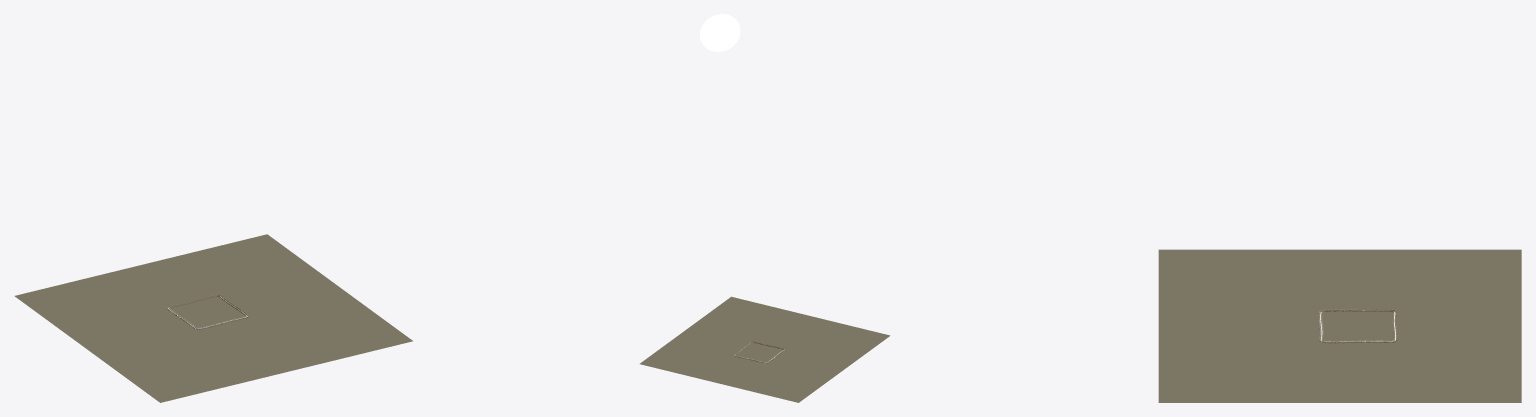
Rendered from songkran.glb.
3 views of the same model, side by side, from view 1: azimuth 30°, elevation 25°; view 2: azimuth 150°, elevation 25°; view 3: azimuth 270°, elevation 25° (orthographic). The views are drawn at different scales.
Parts seen in each view (by area): view 1: Land_003; view 2: Land_003, Sun; view 3: Land_003.
Boxes of the visible parts, left/top/right/bottom form: Land_003: left=14, top=234, right=412, bottom=402; Land_003: left=640, top=296, right=890, bottom=402; Sun: left=700, top=14, right=740, bottom=51; Land_003: left=1158, top=249, right=1521, bottom=402.
Size of the model in its own units: 5507 by 5049 by 6138.
